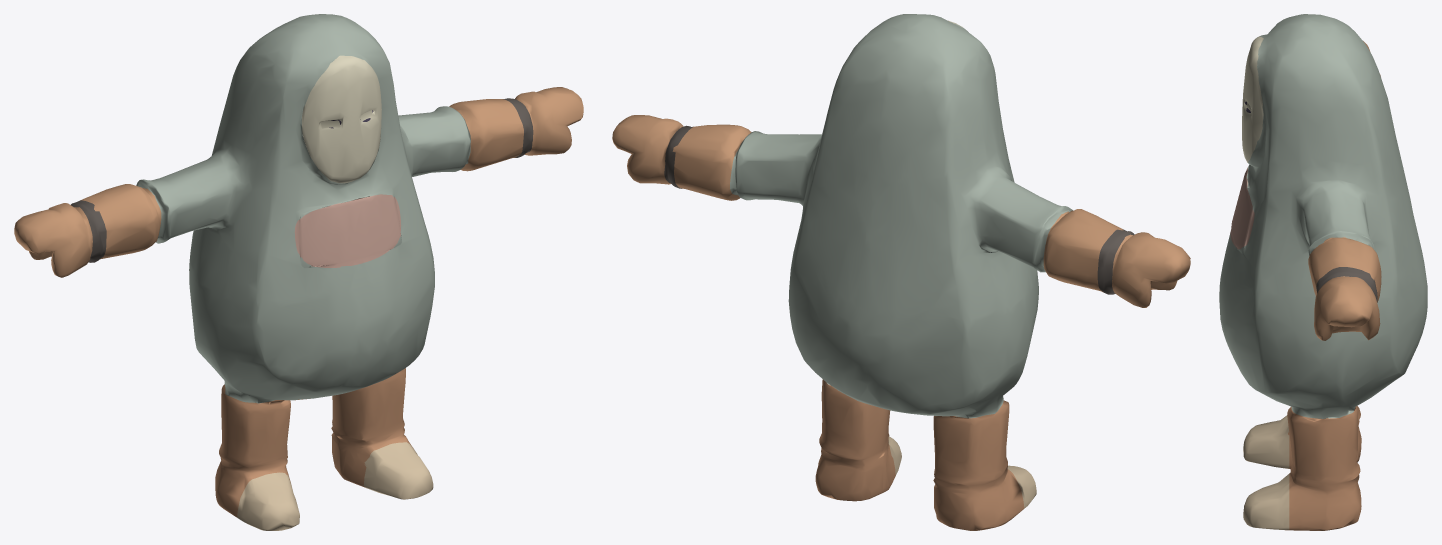
File: dunemummer.glb
3 views of the same model, side by side, from view 1: azimuth 30°, elevation 25°; view 2: azimuth 150°, elevation 25°; view 3: azimuth 270°, elevation 25° (orthographic). The views are drawn at different scales.
Visible parts, largest first — view 1: dune mummer tripo lod; view 2: dune mummer tripo lod; view 3: dune mummer tripo lod.
Part boxes in pixels (x1,y1,x2,y2): dune mummer tripo lod: (14, 14, 583, 530); dune mummer tripo lod: (612, 14, 1190, 530); dune mummer tripo lod: (1219, 14, 1427, 530).
Size of the model in its own units: 1.49 by 1.2 by 0.486.
